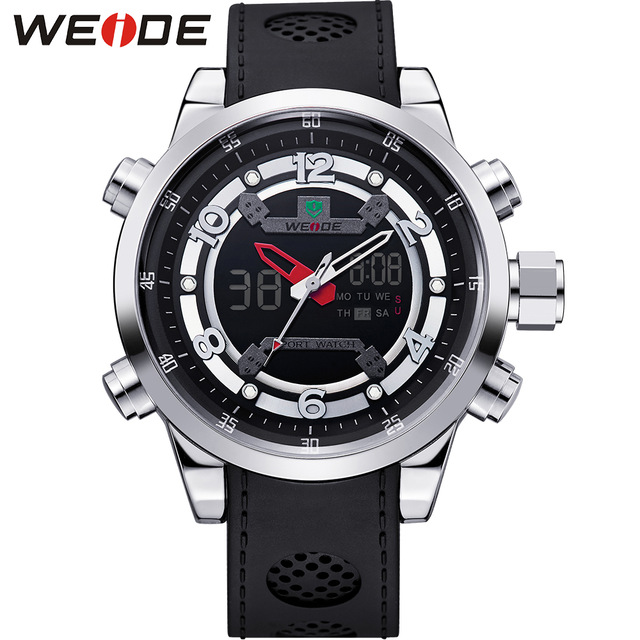clock: (115, 87, 510, 481)
